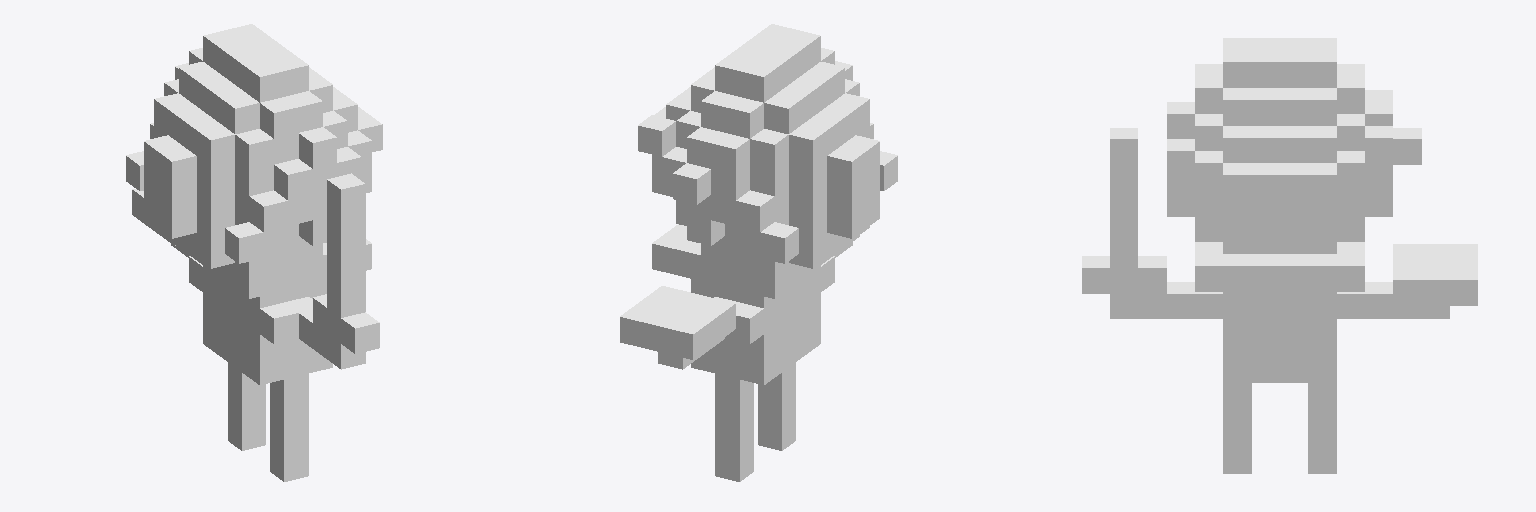
Rendered from maps1demo-33.obj.
3 views of the same model, side by side, from view 1: azimuth 30°, elevation 25°; view 2: azimuth 150°, elevation 25°; view 3: azimuth 270°, elevation 25° (orthographic).
Parts seen in each view (by area): view 1: object 1; view 2: object 1; view 3: object 1.
Boxes of the visible parts, box(x1,y1,x2,y2) form: object 1: box(126, 24, 382, 481); object 1: box(620, 24, 897, 481); object 1: box(1082, 38, 1477, 473).
Bounding box in the file's own units: 0.8 × 1.6 × 1.4.